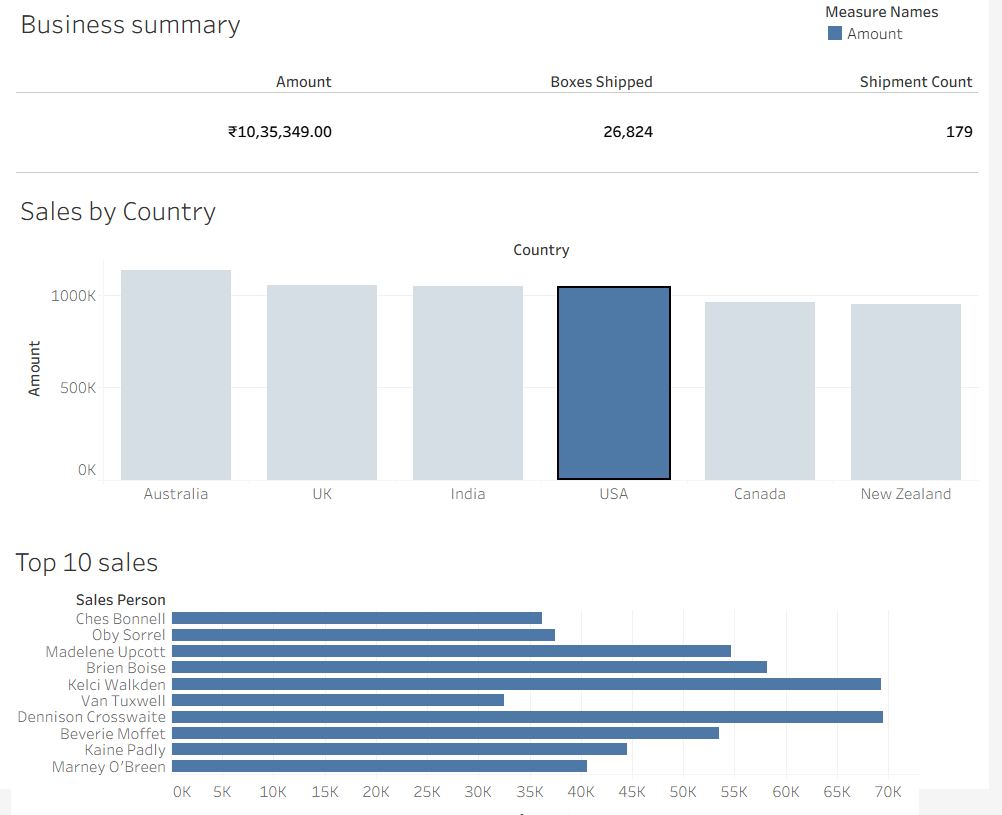

What the dashboard file says about the page in this screenshot:
{"tool":"tableau","page":{"name":"Dashboard 1","canvas":[1000,800],"ordinal":0},"visuals":[{"type":"legend","title":"Sheet 2","param":"[federated.06zm5ul1qjdhkz17jl8zb0myyuj5].[:Measure Names]","box":[832,8,160,51]},{"type":"worksheet","title":"Sheet 3","mark":"Automatic","box":[27,13,962,171]},{"type":"worksheet","title":"Sheet 1","mark":"Automatic","rows":["Amount"],"cols":["Country"],"box":[27,200,963,331]}]}

Visuals, with their boxes in screenshot pixels (x1, y1, x2, y2), scaled from the page's 1000x800 canvas onto the 1002x815 screenshot:
"Sheet 2" legend: 834, 8, 994, 60
"Sheet 3" worksheet: 27, 13, 991, 187
"Sheet 1" worksheet: 27, 204, 992, 541
